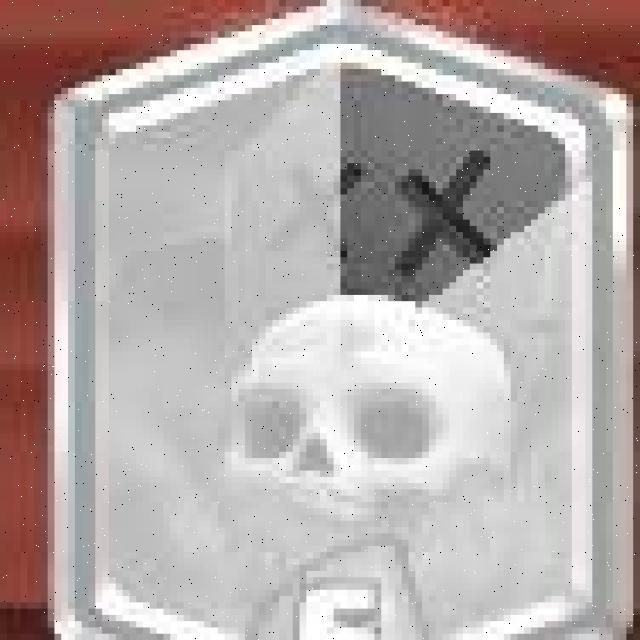Graveyard: (54, 2, 632, 640)
